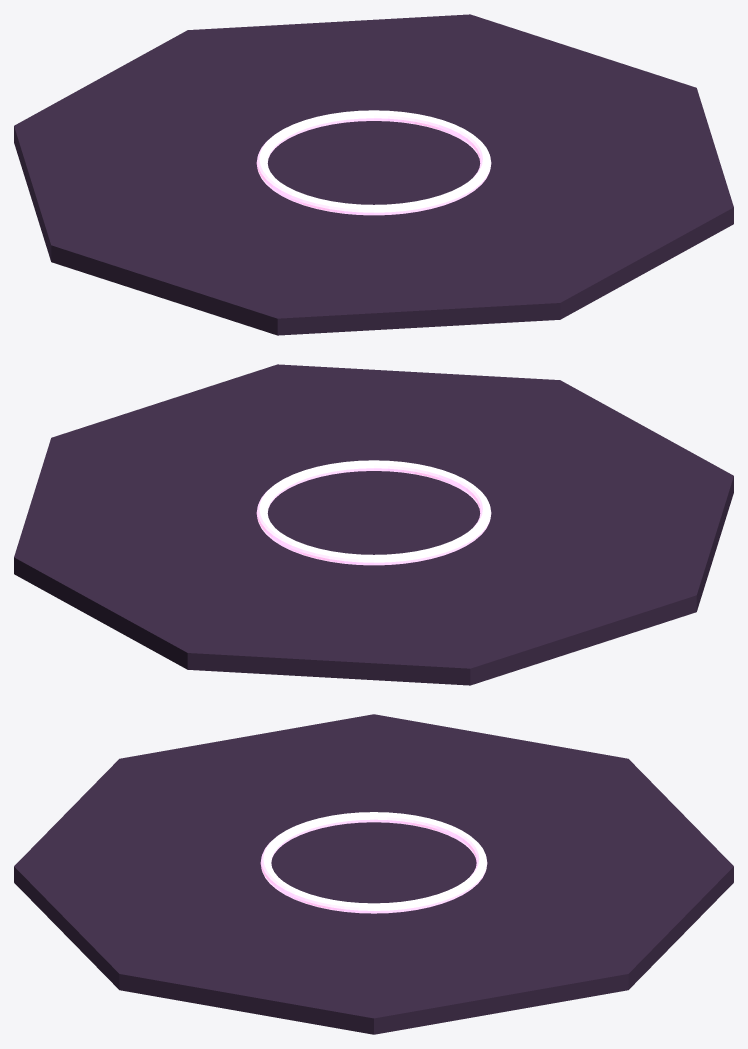
Rendered from combat_arena_floor.glb.
3 views of the same model, one above another, from view 1: azimuth 30°, elevation 25°; view 2: azimuth 150°, elevation 25°; view 3: azimuth 270°, elevation 25° (orthographic). The views are drawn at different scales.
Parts seen in each view (by area): view 1: Cylinder, Torus.005; view 2: Cylinder, Torus.005; view 3: Cylinder, Torus.005.
Part boxes in pixels (x1,y1,x2,y2): Cylinder: (14, 14, 733, 335); Torus.005: (256, 110, 491, 215); Cylinder: (14, 364, 733, 685); Torus.005: (256, 460, 491, 565); Cylinder: (14, 714, 733, 1034); Torus.005: (260, 812, 487, 913).
Bounding box in the file's own units: 20 × 0.75 × 20.
